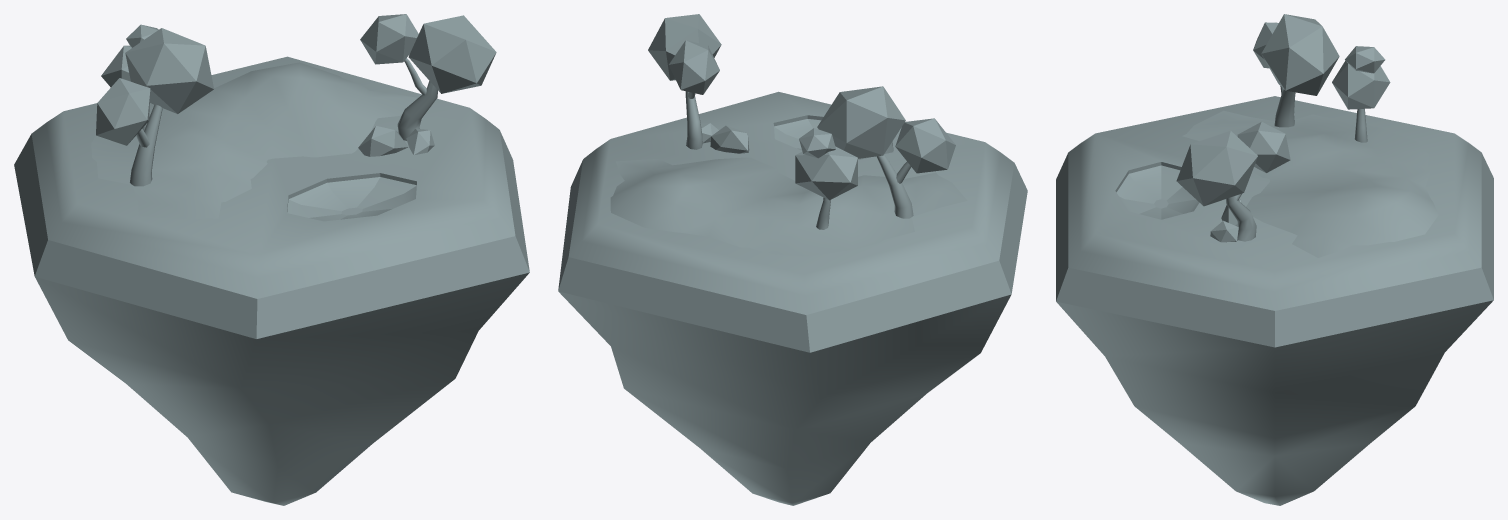
Rendered from islet-1.fbx.
3 renders of one model, left to right at view 1: azimuth 30°, elevation 25°; view 2: azimuth 150°, elevation 25°; view 3: azimuth 270°, elevation 25°, orthographic. The views are drawn at different scales.
Visible parts, largest first — view 1: polySurface534; view 2: polySurface534; view 3: polySurface534.
Part boxes in pixels (<box>): polySurface534: <box>14,14,529,505</box>; polySurface534: <box>558,14,1027,505</box>; polySurface534: <box>1056,14,1493,505</box>.
Size of the model in its own units: 11.53 by 11.08 by 9.99.
